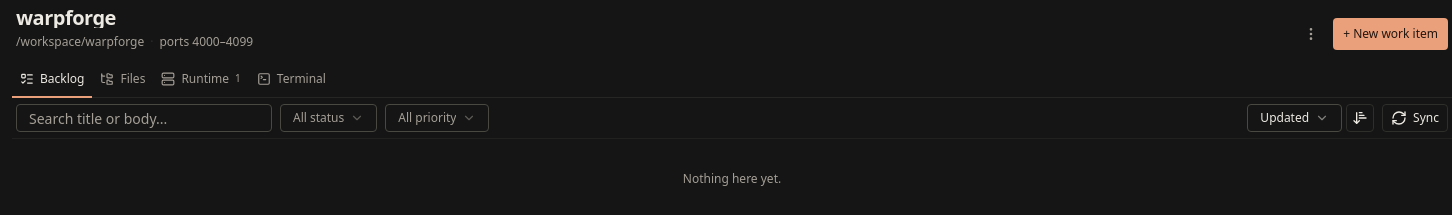
Test: Projects › keeps declared service controls available before runtime status arrives
Click the tab "Runtime 1". click: [201, 80]
box: [153, 62, 249, 98]
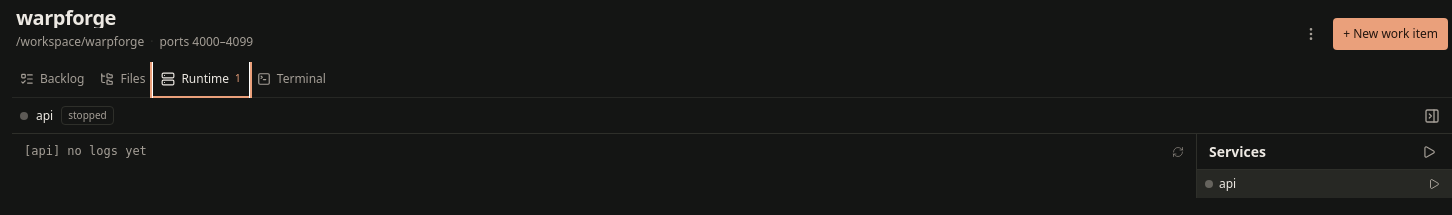
Expected: the button named "Start api" is shown, [1424, 174, 1444, 194]
